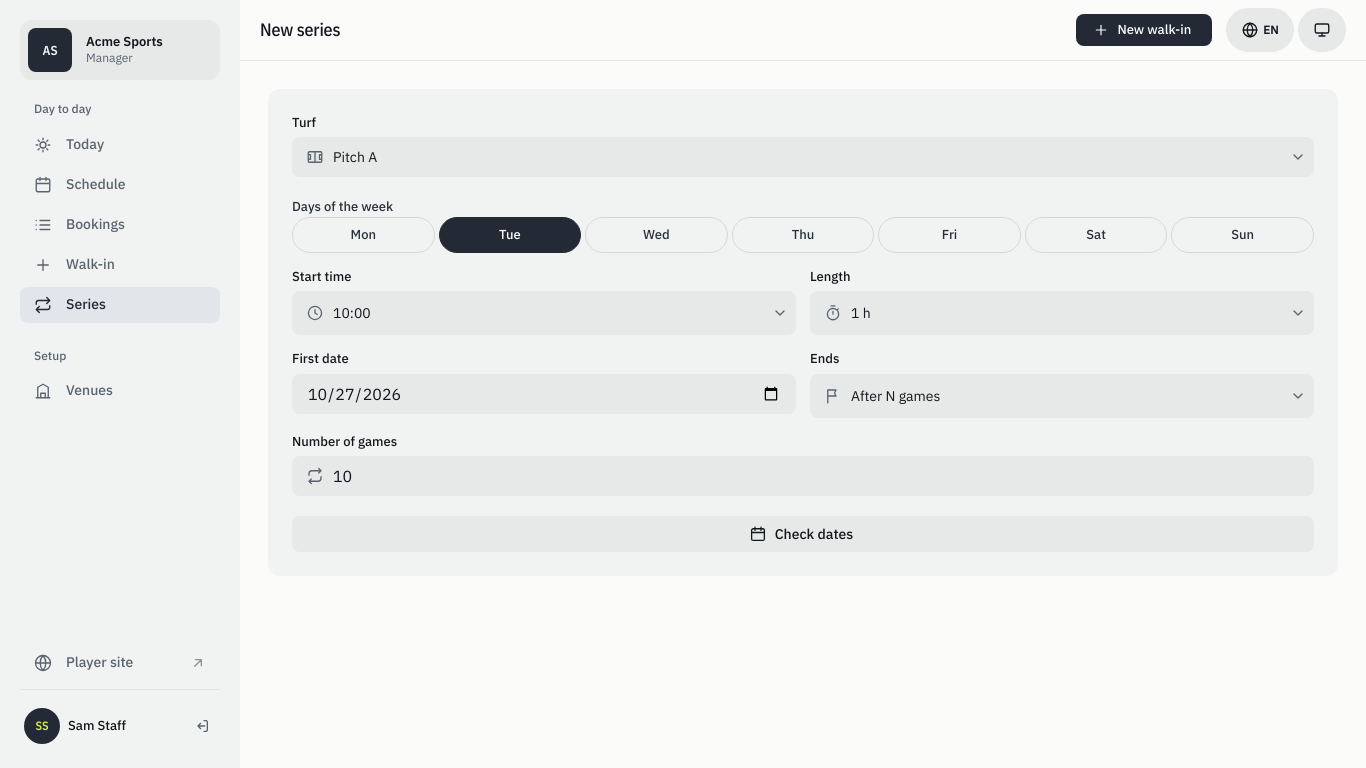
Scenario: New series page › changing a field clears the preview
Expected: the dropdown labelled "Start time" shows "10:00", [292, 291, 796, 335]
What coordinates should you click on to do the following:
click the button "Check dates"
I would click on:
 (803, 534)
Its box is [292, 516, 1314, 552].
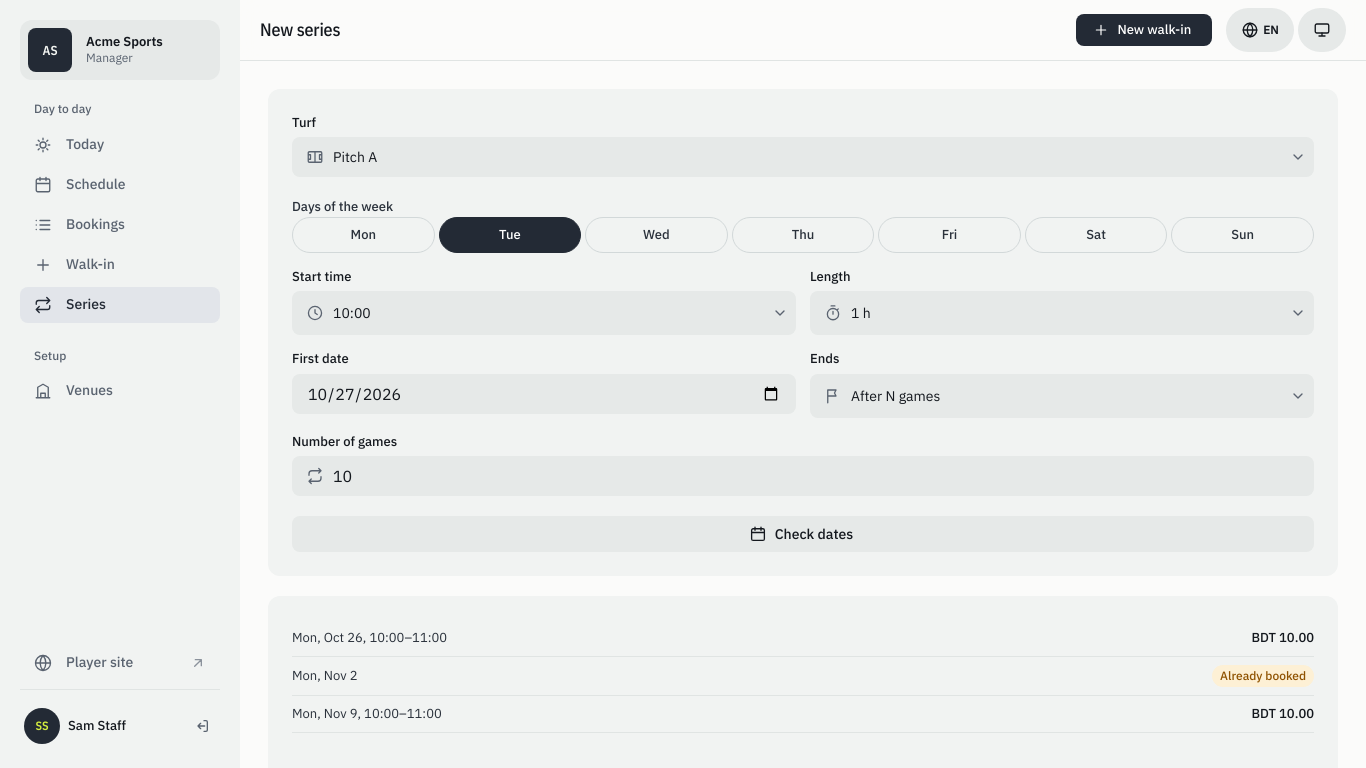
Result: the text "Already booked" is shown at [1212, 665, 1314, 687]
What coordinates should you click on to do the following:
click the button "Wed"
I would click on:
 (656, 235)
Its box is [585, 217, 728, 253].
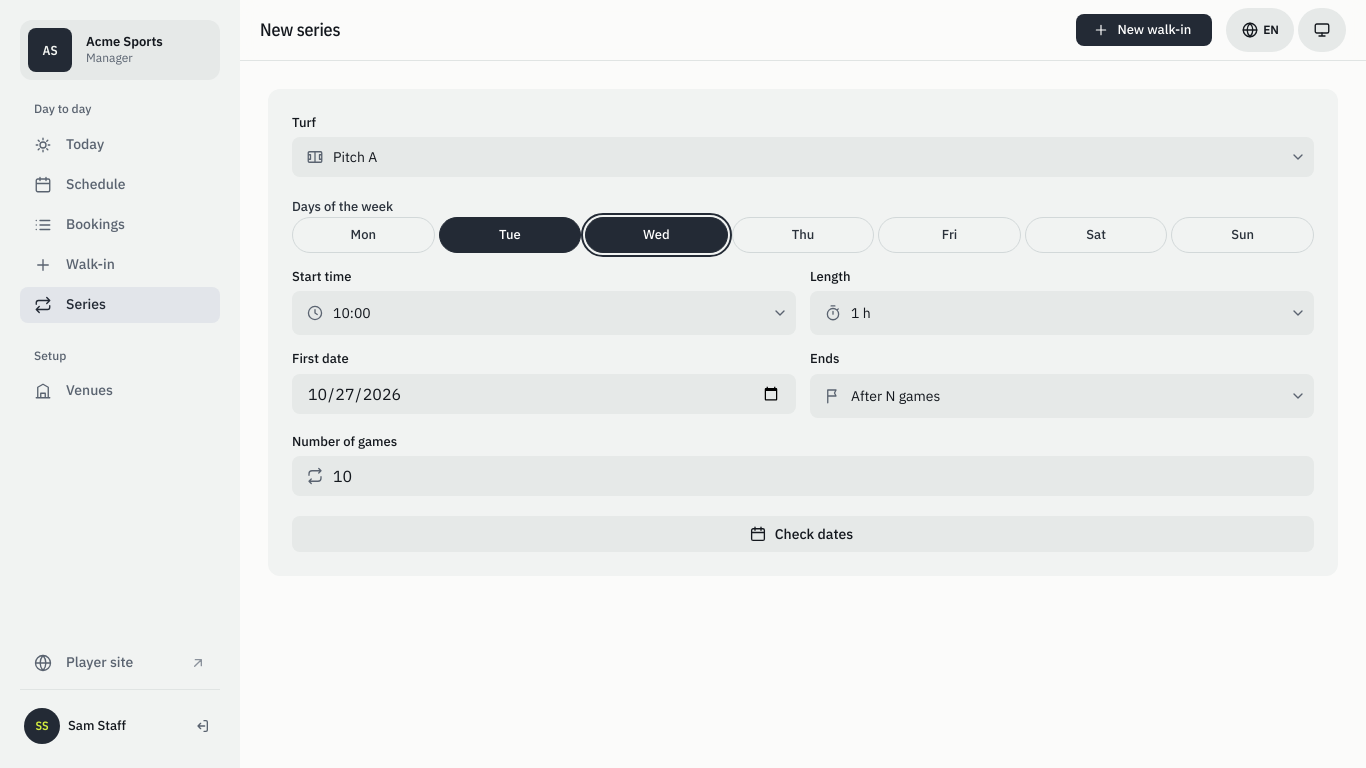
Result: the text "Already booked" is gone
